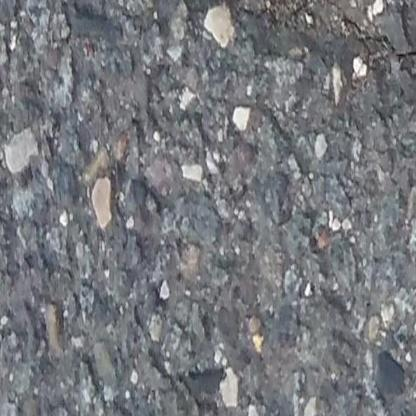Cracks: (155, 0, 416, 72)
